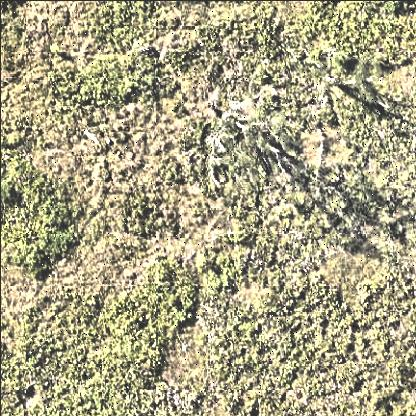tree-top: (195, 85, 300, 193), (295, 48, 375, 119)
